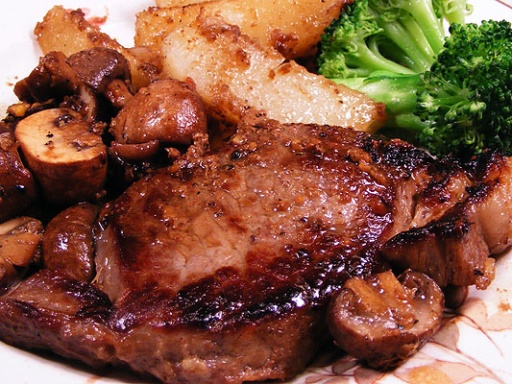background: (0, 0, 410, 230)
